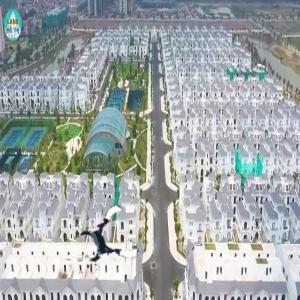drone: (80, 209, 139, 268)
